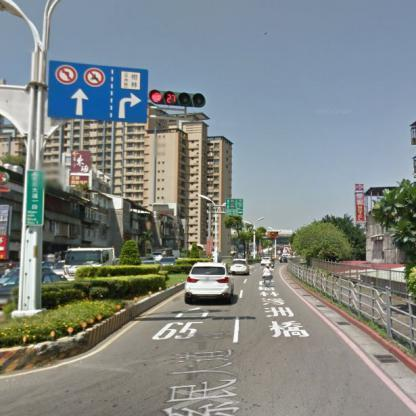Red Light: (148, 88, 207, 110)
